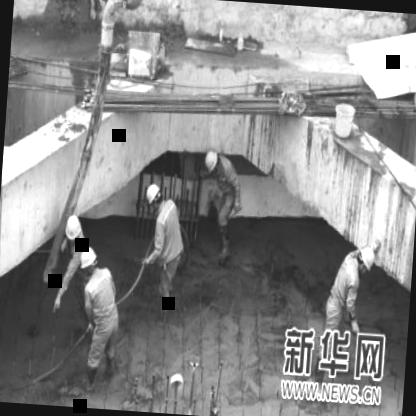helmet: (78, 243, 102, 280), (142, 181, 166, 214), (354, 243, 376, 277), (202, 148, 226, 178), (63, 214, 82, 247)
